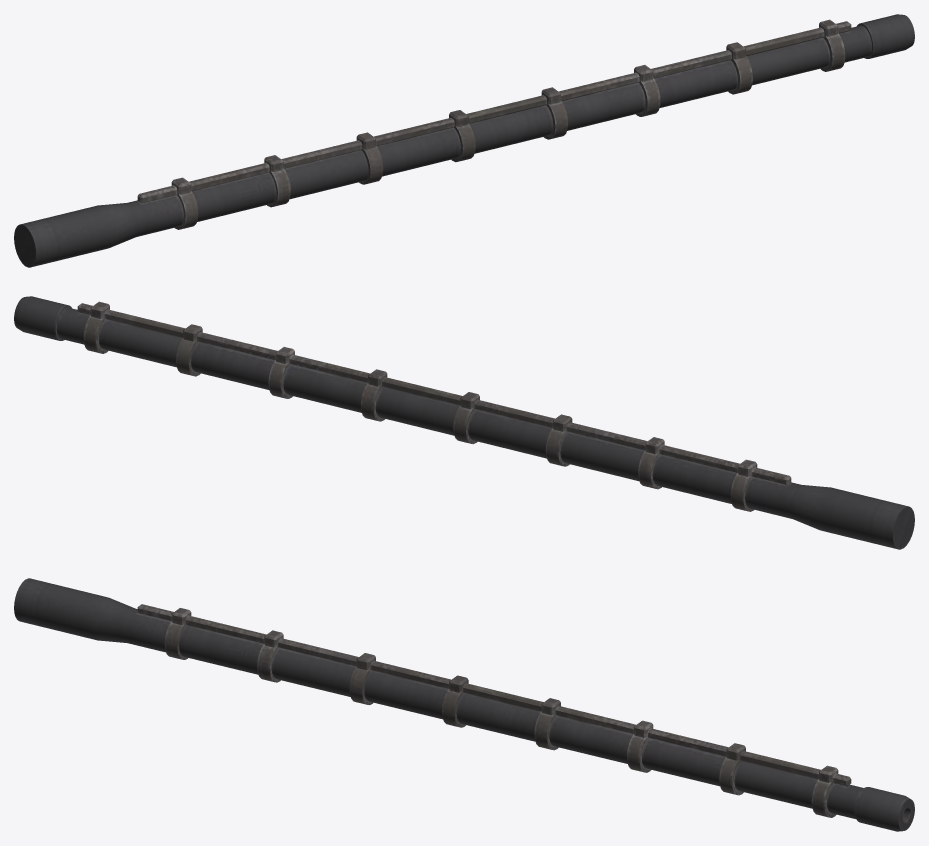
Rendered from long_spine_barrel.glb.
3 views of the same model, one above another, from view 1: azimuth 30°, elevation 25°; view 2: azimuth 150°, elevation 25°; view 3: azimuth 330°, elevation 25° (orthographic).
Parts seen in each view (by area): view 1: long_spine_barrel; view 2: long_spine_barrel; view 3: long_spine_barrel.
Boxes of the visible parts, left/top/right/bottom form: long_spine_barrel: left=14, top=14, right=914, bottom=267; long_spine_barrel: left=14, top=296, right=914, bottom=549; long_spine_barrel: left=14, top=578, right=914, bottom=831.
Bounding box in the file's own units: 0.62 × 0.0315 × 0.027.
Materials: 1 (1 with a texture image).
